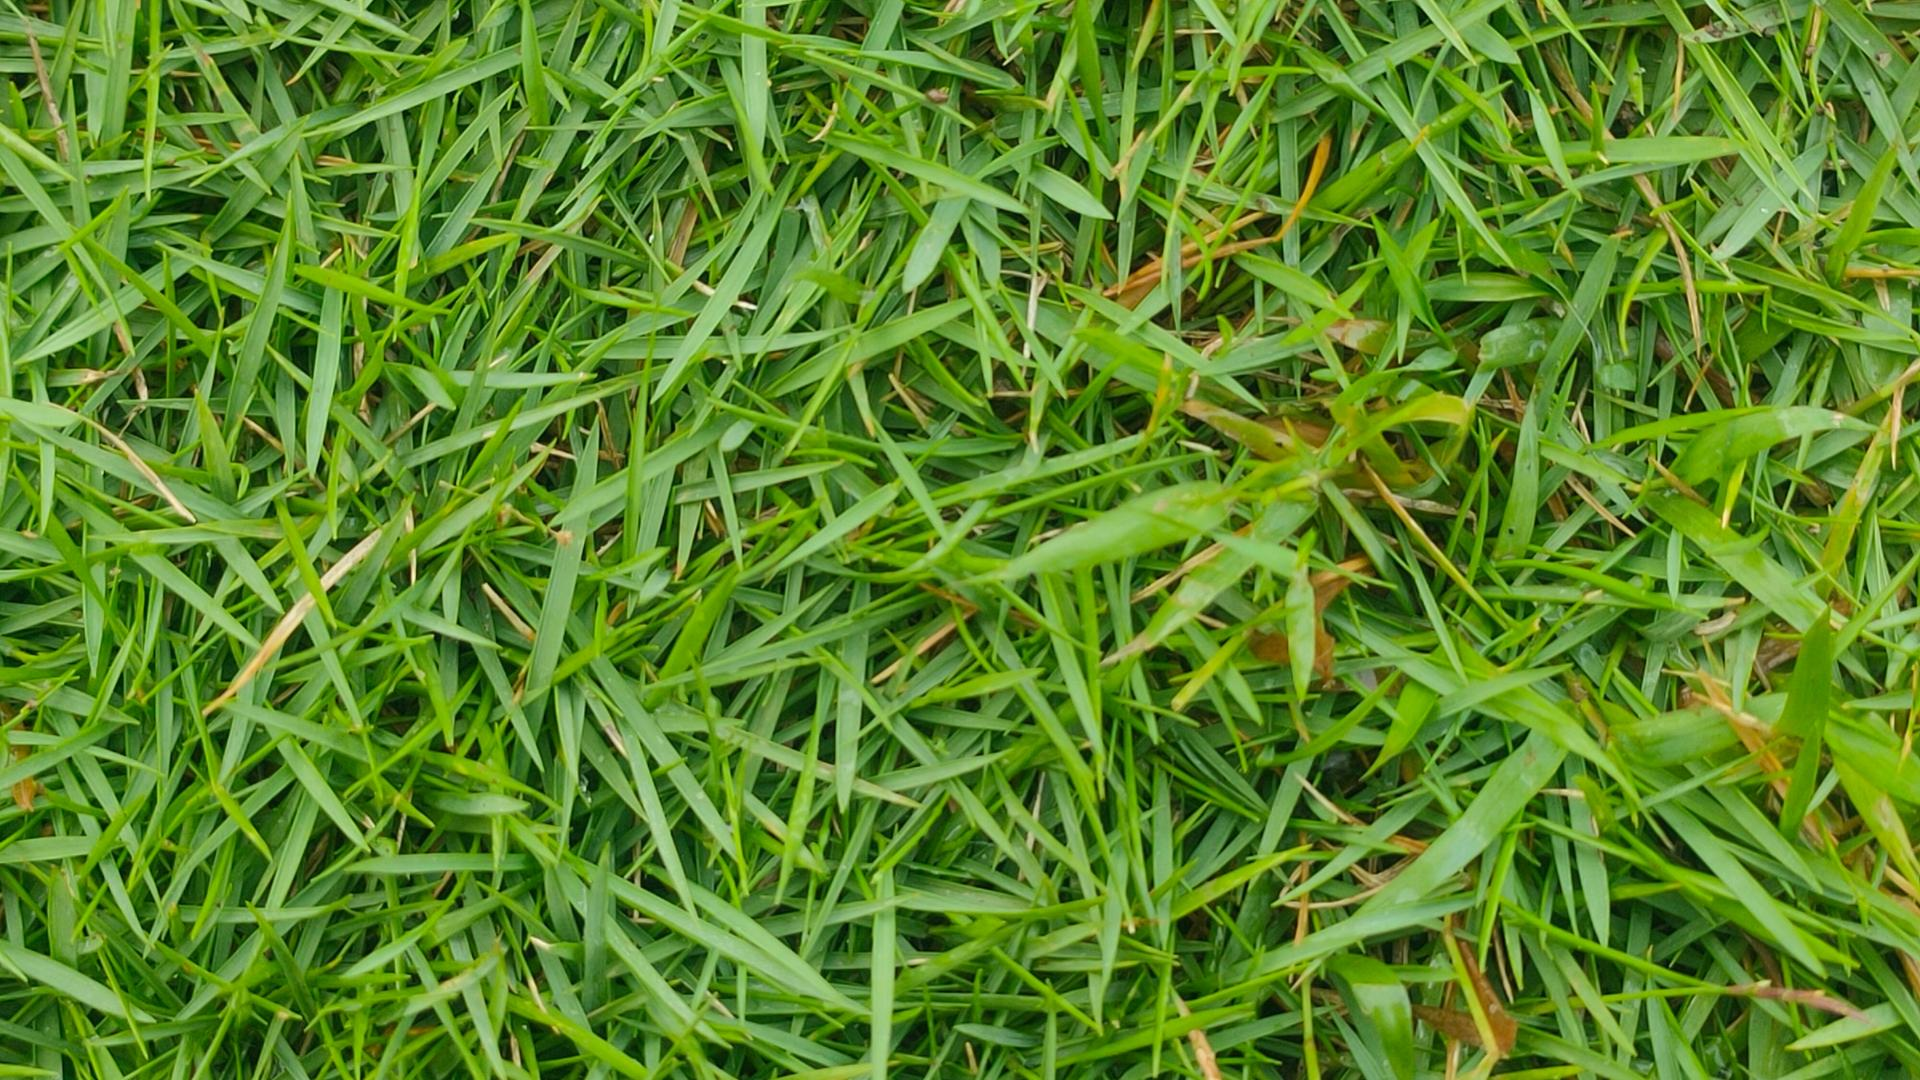grass: (5, 1, 1920, 1080)
